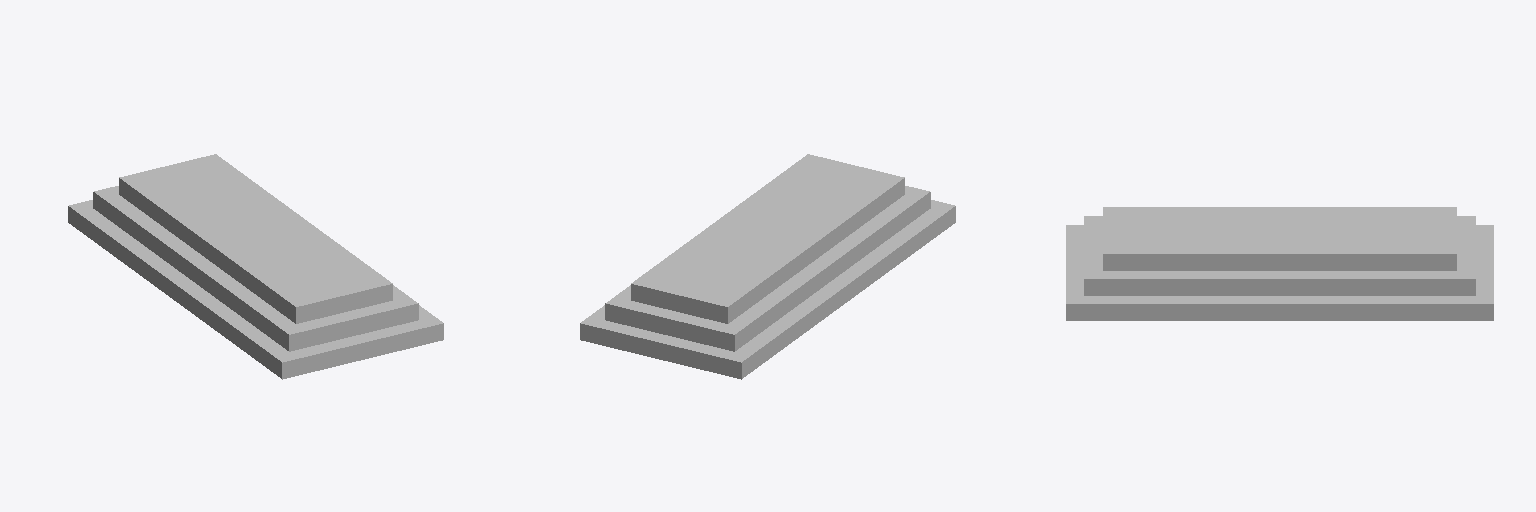
The model's file is light.obj.
3 views of the same model, side by side, from view 1: azimuth 30°, elevation 25°; view 2: azimuth 150°, elevation 25°; view 3: azimuth 270°, elevation 25° (orthographic).
Visible parts, largest first — view 1: object 1; view 2: object 1; view 3: object 1.
Boxes of the visible parts, x1=… form: object 1: x1=68, y1=154, x2=443, y2=379; object 1: x1=580, y1=154, x2=955, y2=379; object 1: x1=1066, y1=207, x2=1493, y2=320.
Size of the model in its own units: 1 by 0.3 by 2.3.